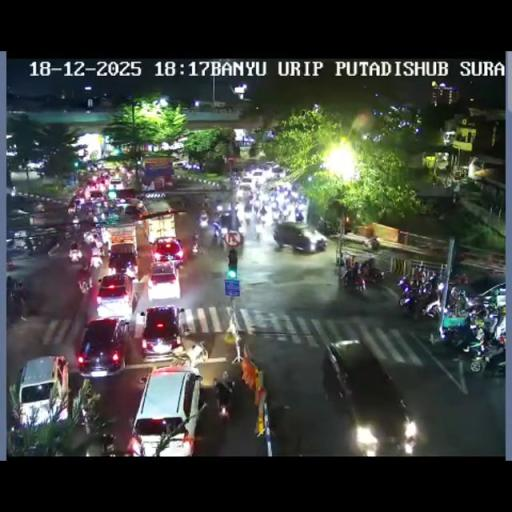Car: (323, 341, 417, 453), (128, 365, 202, 455), (15, 356, 69, 429), (76, 316, 130, 378), (139, 305, 185, 360), (95, 274, 135, 319), (274, 221, 328, 253), (146, 260, 182, 302), (107, 242, 139, 278), (150, 236, 185, 266), (113, 188, 139, 205), (237, 182, 253, 200), (122, 204, 144, 217), (248, 170, 266, 184), (109, 176, 123, 190), (89, 189, 105, 201), (25, 160, 44, 170), (172, 159, 188, 169), (262, 162, 277, 172)
Motorcycle: (259, 182, 307, 224), (466, 324, 504, 372), (398, 276, 438, 318), (264, 402, 296, 454), (6, 284, 28, 322), (340, 264, 366, 292), (214, 386, 234, 422), (360, 262, 385, 286), (26, 234, 56, 254), (464, 298, 489, 321), (76, 264, 94, 294), (449, 284, 469, 305), (196, 380, 209, 410), (100, 432, 116, 454), (198, 210, 210, 239), (450, 272, 469, 286), (68, 246, 82, 264), (83, 230, 98, 246), (363, 236, 380, 250), (316, 217, 330, 234), (90, 251, 103, 269), (254, 200, 266, 218), (234, 200, 246, 218), (101, 233, 110, 257), (294, 202, 306, 219), (212, 221, 222, 240), (254, 219, 264, 236), (191, 238, 200, 256), (202, 195, 212, 211), (243, 206, 253, 221), (272, 208, 282, 222), (6, 235, 15, 248), (233, 175, 241, 189), (71, 214, 80, 226), (215, 202, 223, 212), (92, 214, 99, 224), (220, 226, 227, 236), (100, 211, 106, 222)
